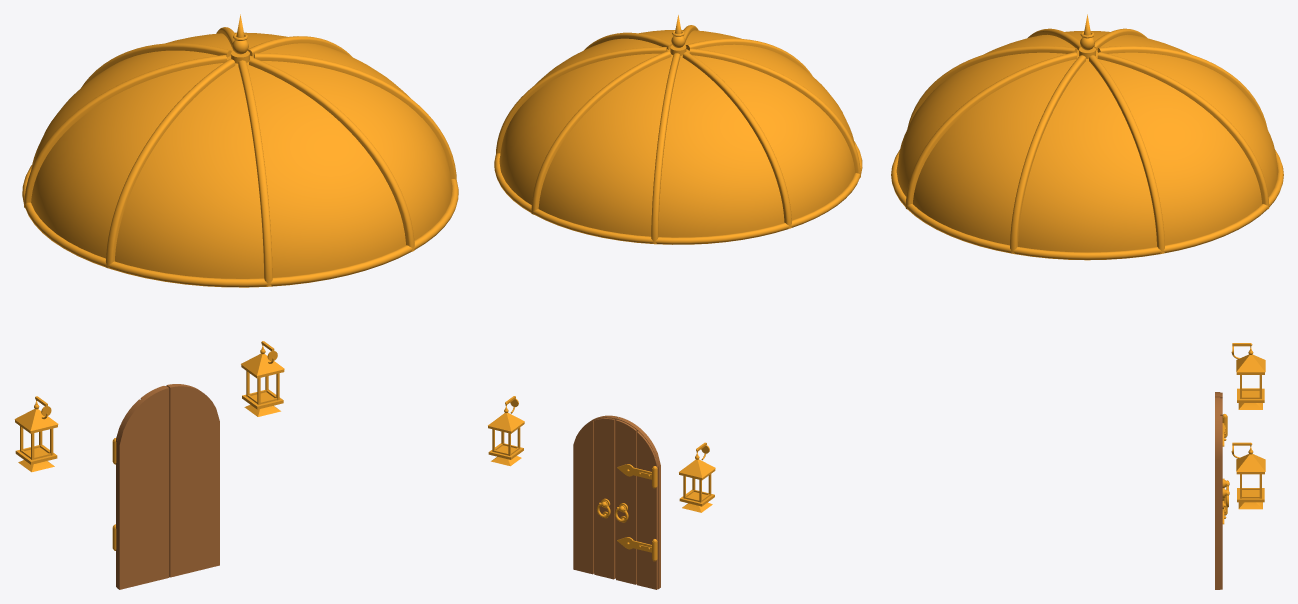
Rendered from HaloDomeHouse_06_ornaments.glb.
3 renders of one model, left to right at view 1: azimuth 30°, elevation 25°; view 2: azimuth 150°, elevation 25°; view 3: azimuth 270°, elevation 25°, orthographic. The views are drawn at different scales.
Parts seen in each view (by area): view 1: Orn_HaloDomeHouse_06_Dome, Orn_HaloDomeHouse_06_Dome_Ribs, Orn_HaloDomeHouse_06_Leaf0, Orn_HaloDomeHouse_06_Leaf1, Orn_HaloDomeHouse_06_Lantern0, Orn_HaloDomeHouse_06_Lantern1; view 2: Orn_HaloDomeHouse_06_Dome, Orn_HaloDomeHouse_06_Dome_Ribs, Orn_HaloDomeHouse_06_Leaf1, Orn_HaloDomeHouse_06_Leaf0, Orn_HaloDomeHouse_06_Lantern0, Orn_HaloDomeHouse_06_Lantern1; view 3: Orn_HaloDomeHouse_06_Dome, Orn_HaloDomeHouse_06_Dome_Ribs, Orn_HaloDomeHouse_06_Leaf1, Orn_HaloDomeHouse_06_Lantern1, Orn_HaloDomeHouse_06_Lantern0.
Part boxes in pixels (<box>): Orn_HaloDomeHouse_06_Dome: <box>22,14,458,287</box>; Orn_HaloDomeHouse_06_Dome_Ribs: <box>24,27,456,286</box>; Orn_HaloDomeHouse_06_Leaf0: <box>116,386,169,589</box>; Orn_HaloDomeHouse_06_Leaf1: <box>166,384,219,577</box>; Orn_HaloDomeHouse_06_Lantern0: <box>14,396,58,472</box>; Orn_HaloDomeHouse_06_Lantern1: <box>241,341,284,416</box>; Orn_HaloDomeHouse_06_Dome: <box>494,15,862,244</box>; Orn_HaloDomeHouse_06_Dome_Ribs: <box>496,25,860,243</box>; Orn_HaloDomeHouse_06_Leaf1: <box>573,415,618,579</box>; Orn_HaloDomeHouse_06_Leaf0: <box>616,417,660,589</box>; Orn_HaloDomeHouse_06_Lantern0: <box>679,442,715,512</box>; Orn_HaloDomeHouse_06_Lantern1: <box>488,396,524,466</box>; Orn_HaloDomeHouse_06_Dome: <box>891,14,1283,260</box>; Orn_HaloDomeHouse_06_Dome_Ribs: <box>905,28,1269,253</box>; Orn_HaloDomeHouse_06_Leaf1: <box>1215,397,1222,589</box>; Orn_HaloDomeHouse_06_Lantern1: <box>1231,442,1265,509</box>; Orn_HaloDomeHouse_06_Lantern0: <box>1231,343,1265,409</box>.
Size of the model in its own units: 16.04 by 24.95 by 16.04.
